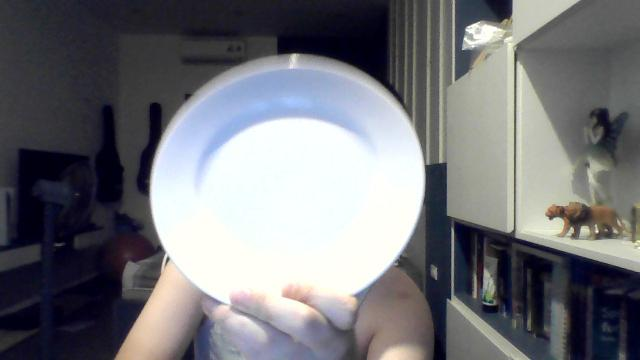Plate: (150, 54, 424, 301)
